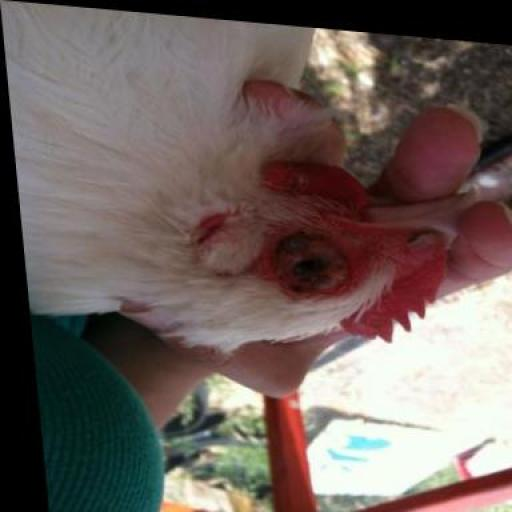disease: (253, 182, 399, 310)
